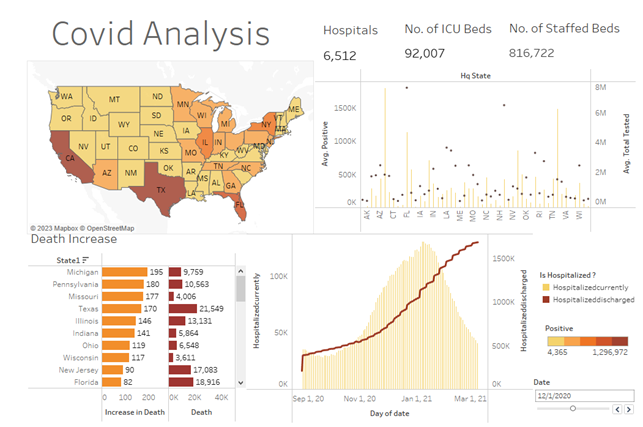

The dashboard page shown, as its layout file describes it:
{"tool":"tableau","page":{"name":"Dashboard 1","canvas":[1000,1000],"units":"permille","ordinal":0},"visuals":[{"type":"text","box":[36,47.5,425,106.2]},{"type":"worksheet","title":"Staffed Bed Sum","mark":"Automatic","box":[784,72.5,214,93.8]},{"type":"worksheet","title":"ICU Sum","mark":"Automatic","box":[613,73.8,157,92.5]},{"type":"worksheet","title":"Hospital Sum","mark":"Automatic","box":[480,75,101,95]},{"type":"worksheet","title":"Map","mark":"Automatic","box":[0,160,469,355]},{"type":"worksheet","title":"Positivity","mark":"Bar","rows":["positive","Total Tested"],"cols":["HQ_STATE"],"box":[471,177.5,525,333.8]},{"type":"worksheet","title":"Death Increase","mark":"Bar","rows":["State"],"cols":["deathIncrease","death"],"box":[2,500,357,398.8]},{"type":"worksheet","title":"Discharged VS In Hospital","mark":"Automatic","rows":["hospitalizedcurrently","hospitalizeddischarged"],"cols":["date (dimDate.csv)"],"box":[359,513.8,469,387.5]},{"type":"legend","title":"Discharged VS In Hospital","param":"[federated.10r71gi1s7dvyl1a24g4t0fmnsfb].[:Measure Names]","box":[838.1,557.4,160.2,103]},{"type":"legend","title":"Map","param":"[federated.10r71gi1s7dvyl1a24g4t0fmnsfb].[sum:positive:qk]","box":[840.7,696,140.3,94.6]},{"type":"filter","title":"Death Increase","param":"[federated.10r71gi1s7dvyl1a24g4t0fmnsfb].[none:date (dimDate.csv):ok]","box":[828,806.2,168,93.8]}]}

Visuals, with their boxes on the dashboard's canvas, which has no fixed pixel size, in thousandths of its width and height (x1, y1, x2, y2). These are canvas units, not pixel positions in the 643x427 screenshot, which may show the page scaled, cropped or inside an application window:
text: [x1=36, y1=48, x2=461, y2=154]
"Staffed Bed Sum" worksheet: [x1=784, y1=72, x2=998, y2=166]
"ICU Sum" worksheet: [x1=613, y1=74, x2=770, y2=166]
"Hospital Sum" worksheet: [x1=480, y1=75, x2=581, y2=170]
"Map" worksheet: [x1=0, y1=160, x2=469, y2=515]
"Positivity" worksheet (Bar marks): [x1=471, y1=178, x2=996, y2=511]
"Death Increase" worksheet (Bar marks): [x1=2, y1=500, x2=359, y2=899]
"Discharged VS In Hospital" worksheet: [x1=359, y1=514, x2=828, y2=901]
"Discharged VS In Hospital" legend: [x1=838, y1=557, x2=998, y2=660]
"Map" legend: [x1=841, y1=696, x2=981, y2=791]
"Death Increase" filter: [x1=828, y1=806, x2=996, y2=900]
